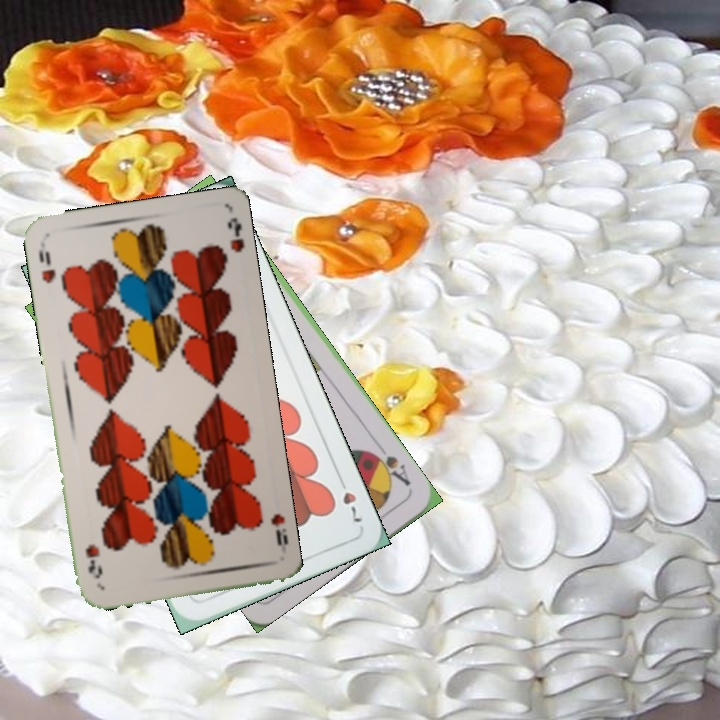H7: (334, 472, 365, 526)
H9: (267, 509, 291, 548), (34, 247, 58, 286)
SA: (366, 440, 413, 489)
